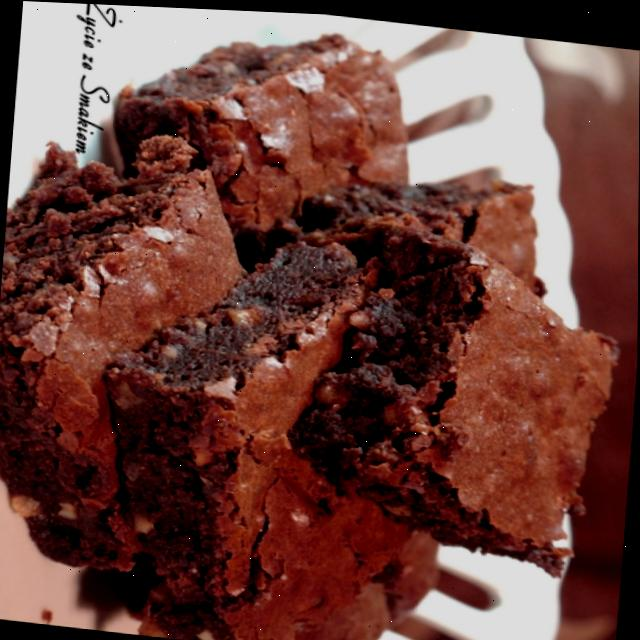蛋糕甜品: (8, 16, 640, 640)
